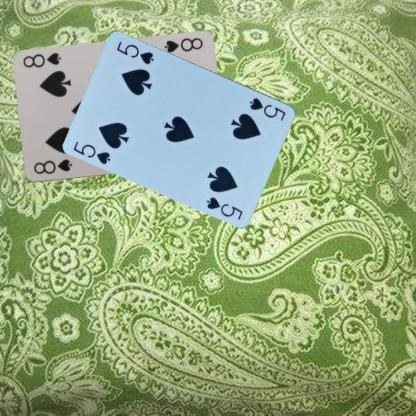5s: (247, 95, 288, 122), (71, 139, 112, 165)
8s: (30, 157, 72, 176), (161, 36, 204, 54)
